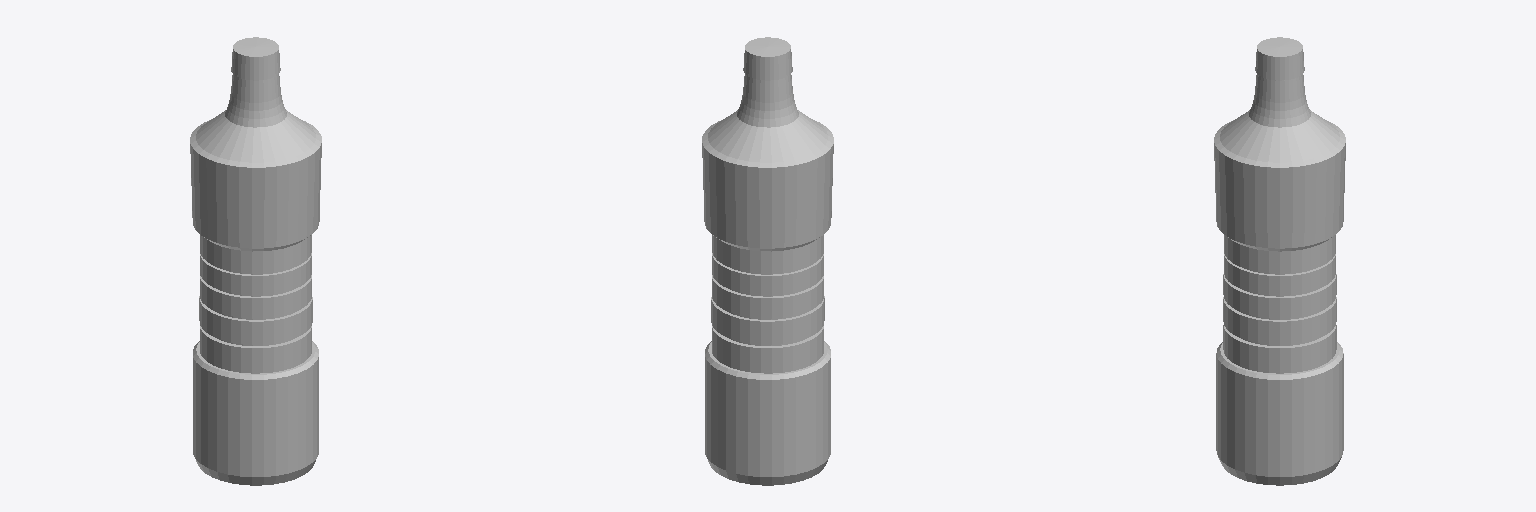
The model's file is bottle_3.obj.
3 views of the same model, side by side, from view 1: azimuth 30°, elevation 25°; view 2: azimuth 150°, elevation 25°; view 3: azimuth 270°, elevation 25° (orthographic).
Visible parts, largest first — view 1: bottle3 group1; view 2: bottle3 group1; view 3: bottle3 group1.
Boxes of the visible parts, box(x1,y1,x2,y2) form: bottle3 group1: box(190, 37, 321, 485); bottle3 group1: box(702, 37, 833, 485); bottle3 group1: box(1214, 37, 1345, 485).
Size of the model in its own units: 11.27 by 39.35 by 11.27.